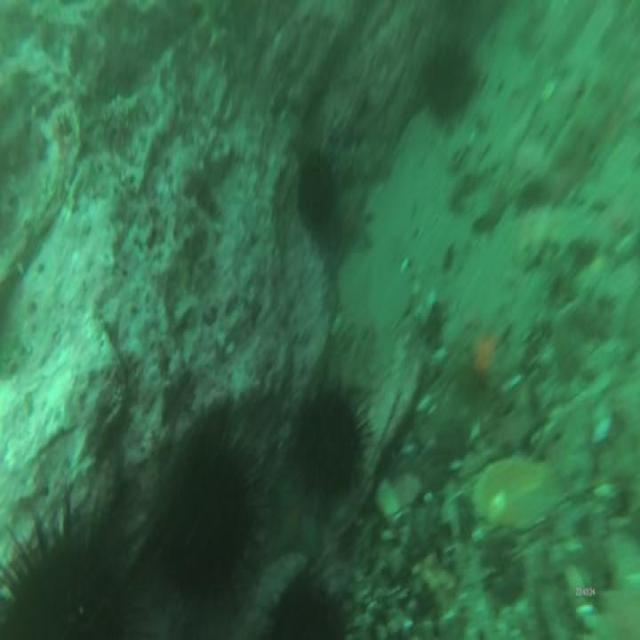echinus: (0, 486, 149, 640), (151, 422, 270, 605), (292, 373, 372, 515), (262, 558, 358, 640), (419, 32, 479, 128), (292, 144, 343, 238)
